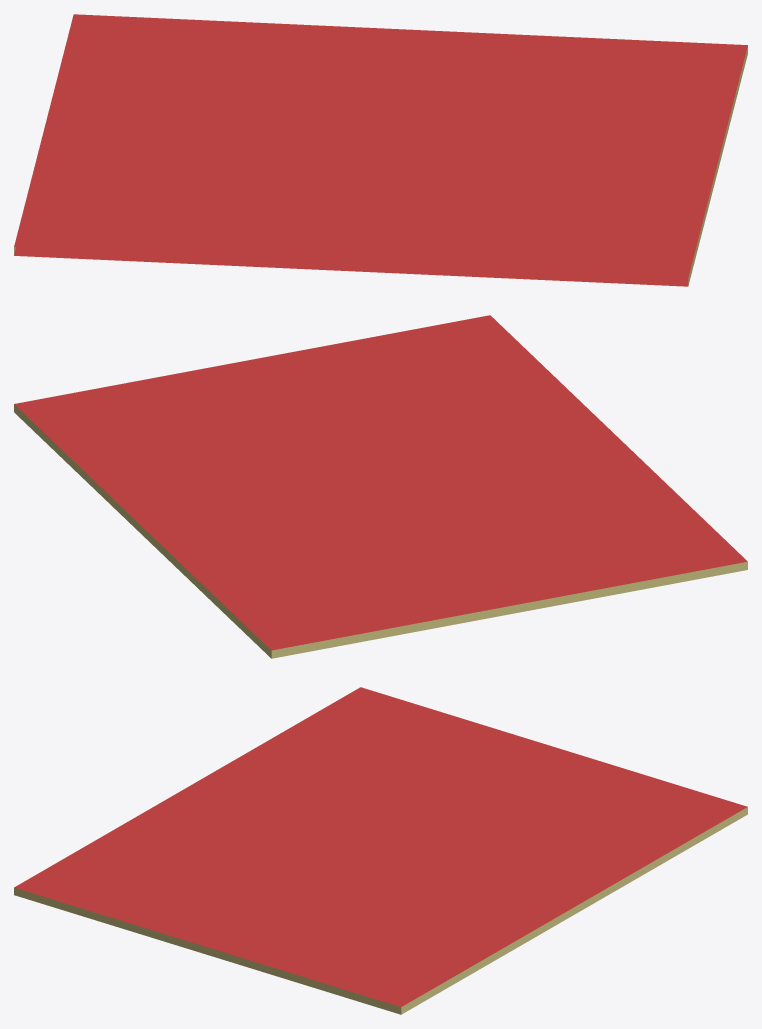
3 views of the same model, one above another, from view 1: azimuth 30°, elevation 25°; view 2: azimuth 150°, elevation 25°; view 3: azimuth 270°, elevation 25° (orthographic). The views are drawn at different scales.
Bounding box in the file's own units: 9 × 8.72 × 0.1.
